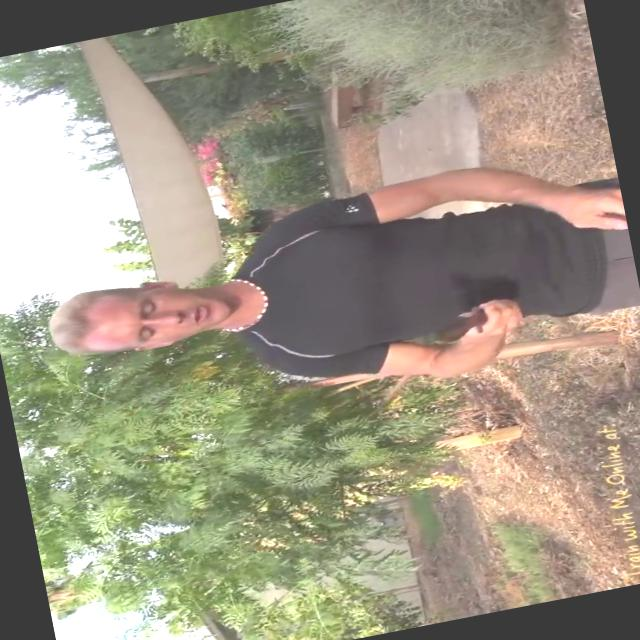knife: (420, 299, 501, 353)
